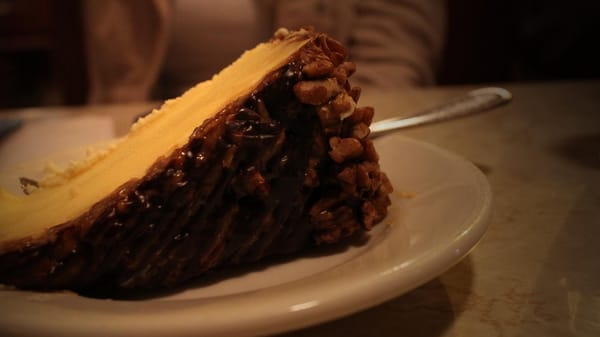sandwich: (366, 86, 512, 136)
